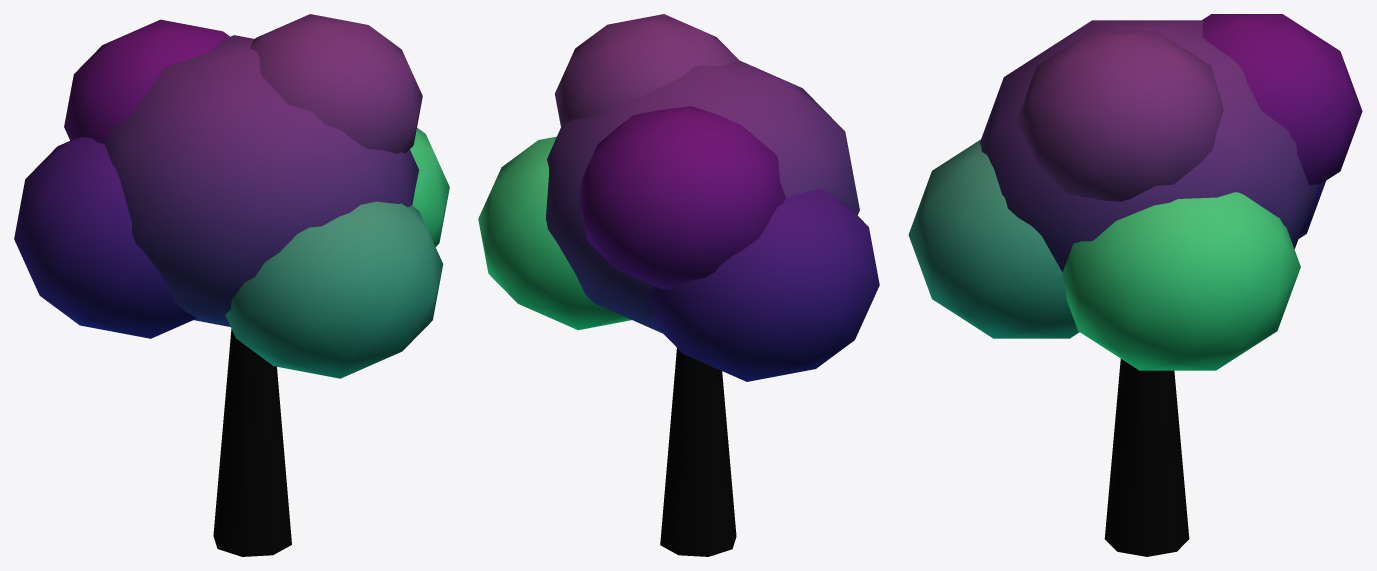
Rendered from coast_tree.glb.
3 renders of one model, left to right at view 1: azimuth 30°, elevation 25°; view 2: azimuth 150°, elevation 25°; view 3: azimuth 270°, elevation 25°, orthographic. The views are drawn at different scales.
Visible parts, largest first — view 1: Tree; view 2: Tree; view 3: Tree.
Part boxes in pixels (box(x1,y1,x2,y2)): Tree: box(14, 14, 449, 556); Tree: box(478, 14, 879, 556); Tree: box(908, 14, 1362, 556).
Bounding box in the file's own units: 6.04 × 7.6 × 5.9.
